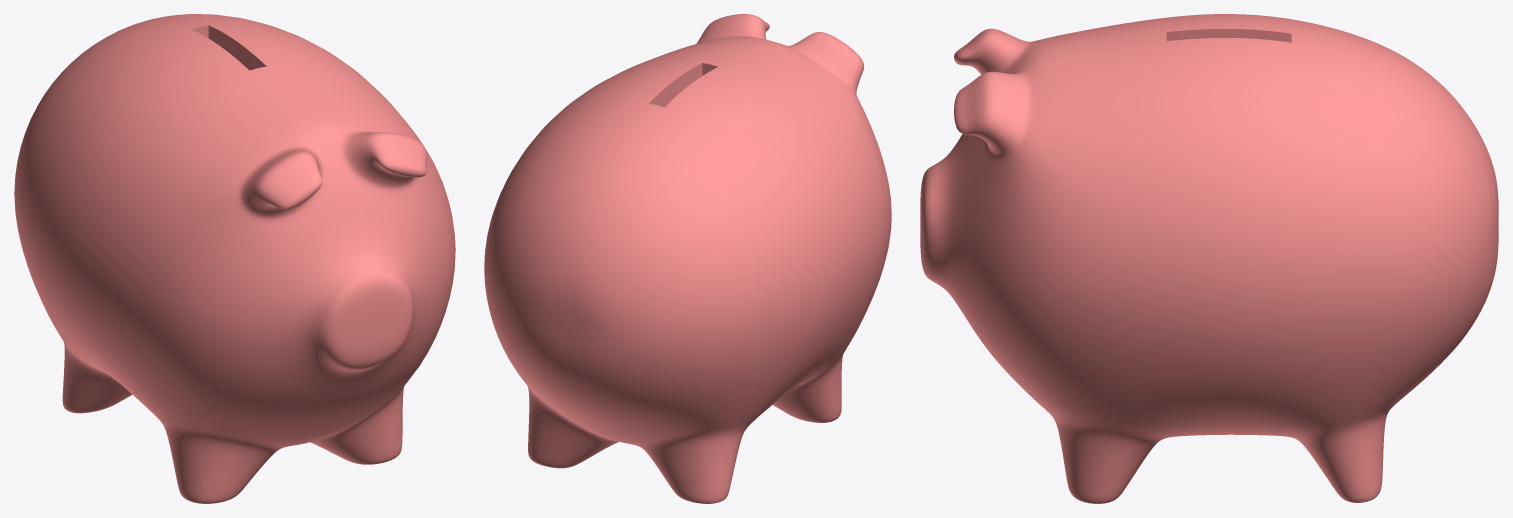
File: piggy bank.dae
3 views of the same model, side by side, from view 1: azimuth 30°, elevation 25°; view 2: azimuth 150°, elevation 25°; view 3: azimuth 270°, elevation 25° (orthographic). The views are drawn at different scales.
Visible parts, largest first — view 1: SketchUp; view 2: SketchUp; view 3: SketchUp.
Part boxes in pixels (left/top/right/bottom): SketchUp: left=14, top=14, right=455, bottom=503; SketchUp: left=484, top=14, right=891, bottom=503; SketchUp: left=920, top=14, right=1498, bottom=503.
Size of the model in its own units: 234 by 323 by 257.
